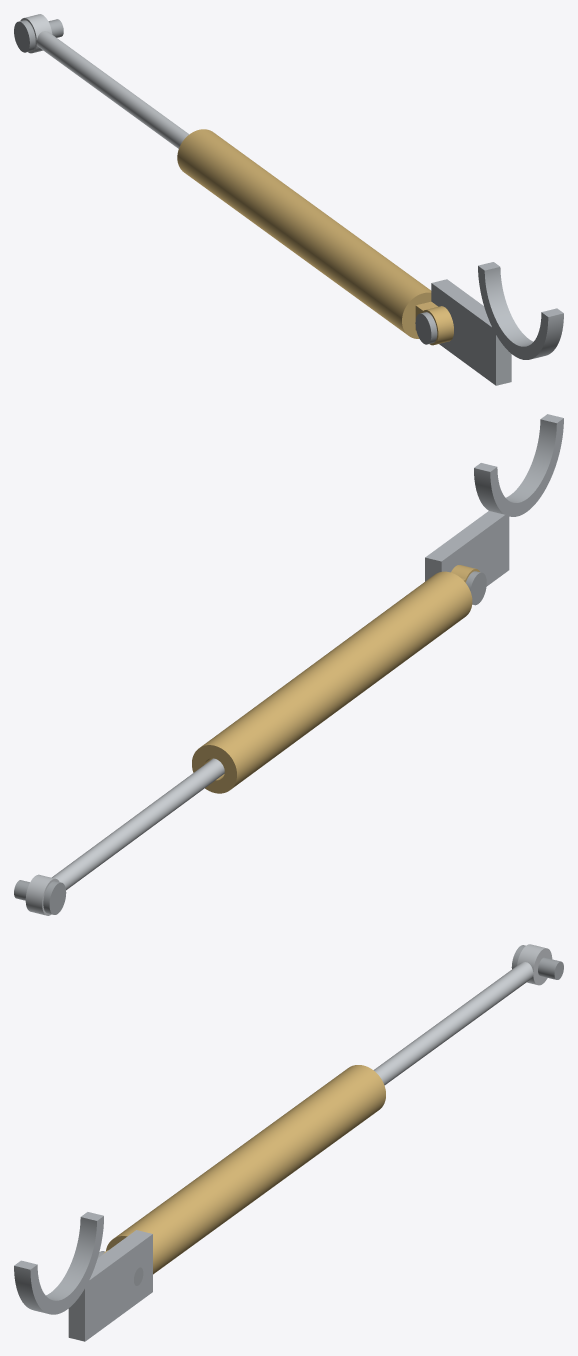
Rendered from step_04.glb.
The picture shows the model from 3 angles, top to bottom: view 1: azimuth 30°, elevation 25°; view 2: azimuth 150°, elevation 25°; view 3: azimuth 330°, elevation 25°; orthographic projection. The views are drawn at different scales.
Visible parts, largest first — view 1: part__recline lock, part__recline lock bracket, part__recline lock rod, part__recline lock pin, rear, part__recline lock pin, front; view 2: part__recline lock, part__recline lock bracket, part__recline lock rod, part__recline lock pin, rear; view 3: part__recline lock, part__recline lock bracket, part__recline lock rod, part__recline lock pin, rear.
Boxes of the visible parts, left/top/right/bottom form: part__recline lock: left=177, top=129, right=453, bottom=345; part__recline lock bracket: left=431, top=262, right=563, bottom=385; part__recline lock rod: left=20, top=14, right=188, bottom=148; part__recline lock pin, rear: left=14, top=19, right=63, bottom=52; part__recline lock pin, front: left=415, top=312, right=437, bottom=344; part__recline lock: left=192, top=565, right=479, bottom=793; part__recline lock bracket: left=425, top=414, right=563, bottom=586; part__recline lock rod: left=25, top=758, right=224, bottom=915; part__recline lock pin, rear: left=14, top=880, right=66, bottom=914; part__recline lock: left=103, top=1065, right=385, bottom=1274; part__recline lock bracket: left=14, top=1212, right=152, bottom=1341; part__recline lock rod: left=373, top=944, right=552, bottom=1085; part__recline lock pin, rear: left=511, top=945, right=563, bottom=979.
Bounding box in the file's own units: 23 × 52 × 453.
